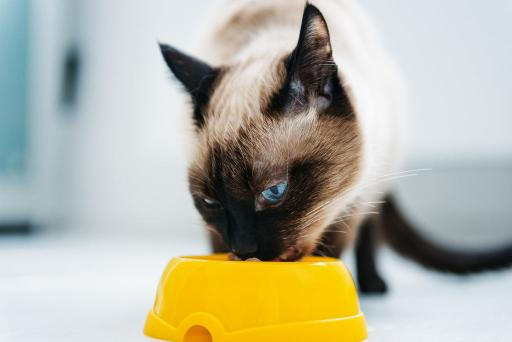cat_eating: (144, 0, 512, 342)
